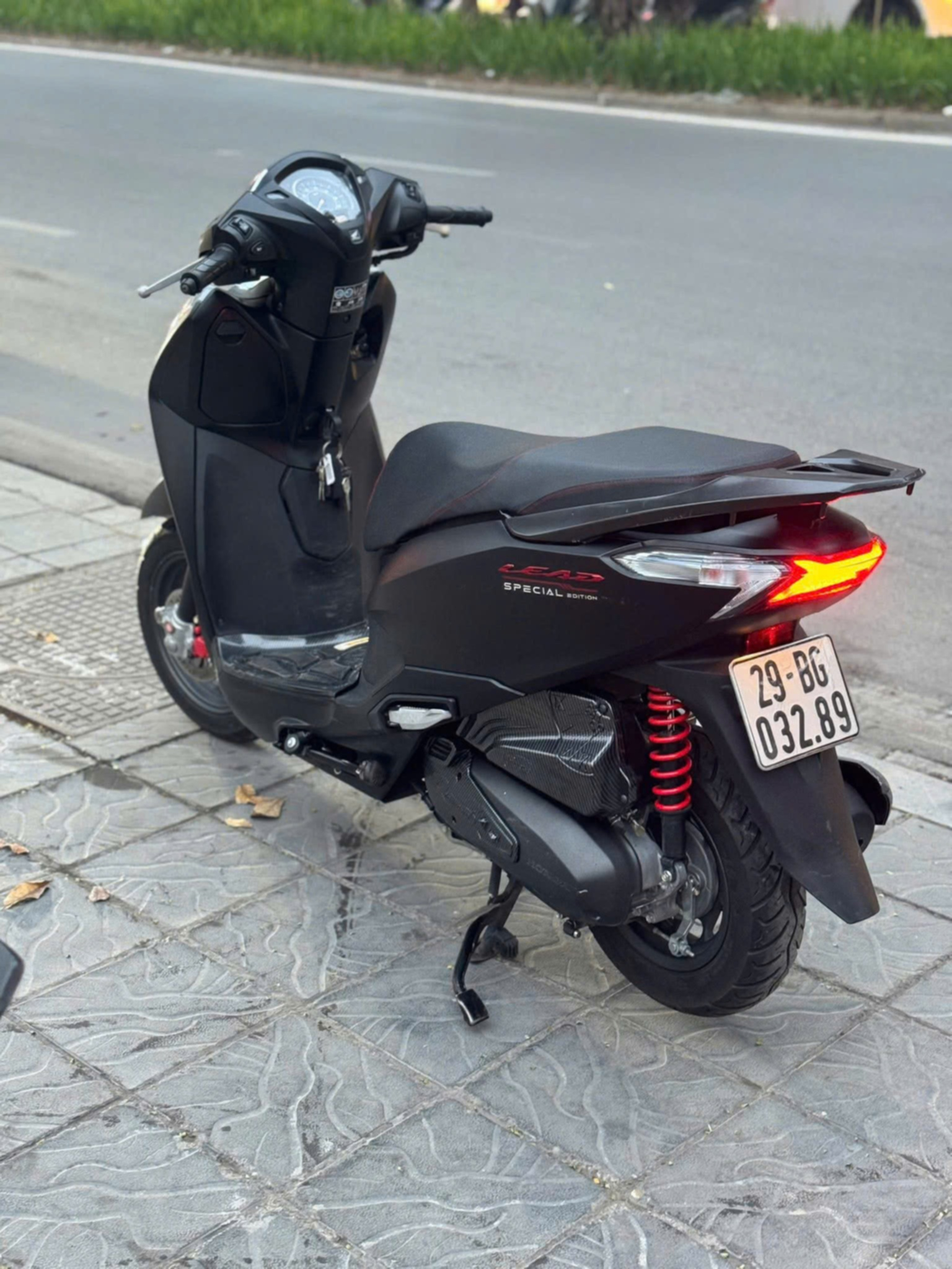Bien-so: (731, 627, 862, 768)
